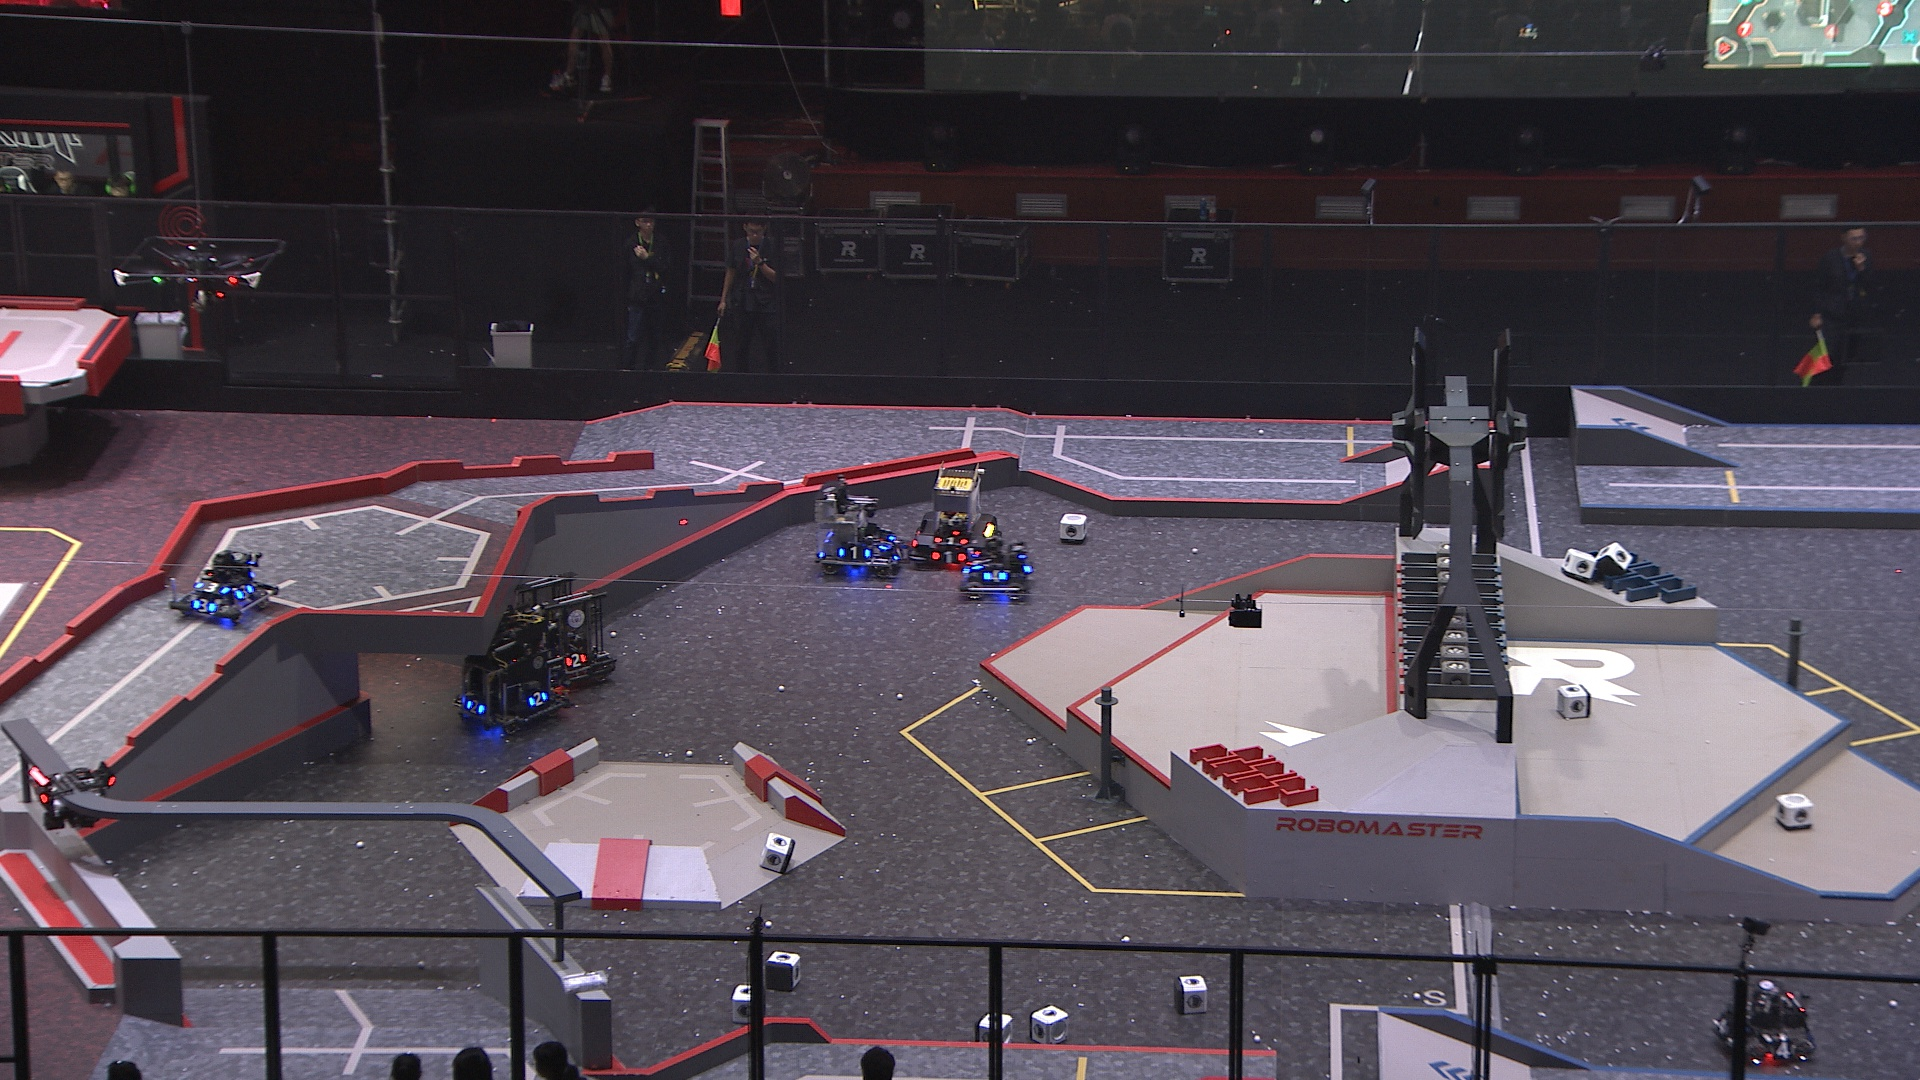armor: (931, 549, 969, 566), (836, 543, 873, 560), (193, 579, 229, 595), (978, 566, 1007, 585), (1771, 1039, 1797, 1060), (29, 778, 49, 806), (932, 533, 969, 547), (193, 595, 218, 615), (560, 650, 585, 669), (526, 688, 549, 708), (465, 698, 487, 717), (889, 542, 906, 564), (233, 583, 257, 599), (969, 553, 988, 572), (880, 533, 898, 551), (1713, 1015, 1730, 1035)
car: (448, 607, 572, 732), (505, 568, 626, 692), (811, 473, 911, 575), (1709, 977, 1817, 1069), (162, 542, 284, 622), (906, 458, 996, 564), (956, 520, 1035, 604)
watcher: (24, 756, 121, 831)
